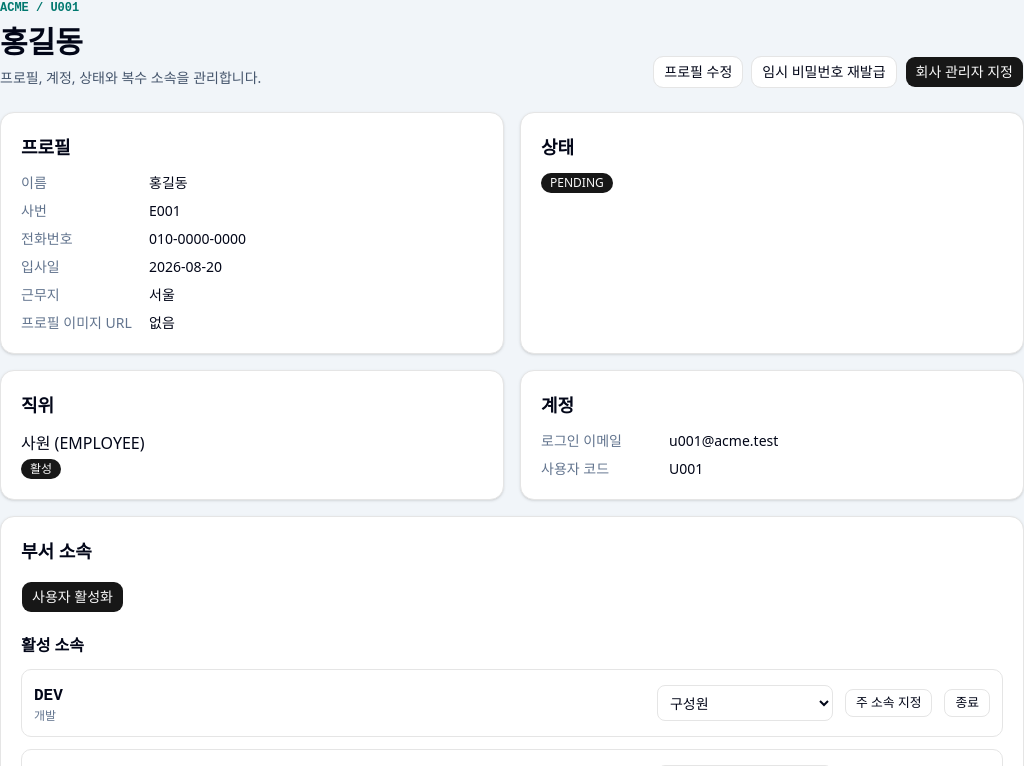
Test case: commits a Strict Mode UserDetail reset continuation and refetch exactly once
This screenshot has width=1024, height=766.
Step 1. Click the button "임시 비밀번호 재발급" → point(824, 72), box left=751, top=56, right=896, bottom=88
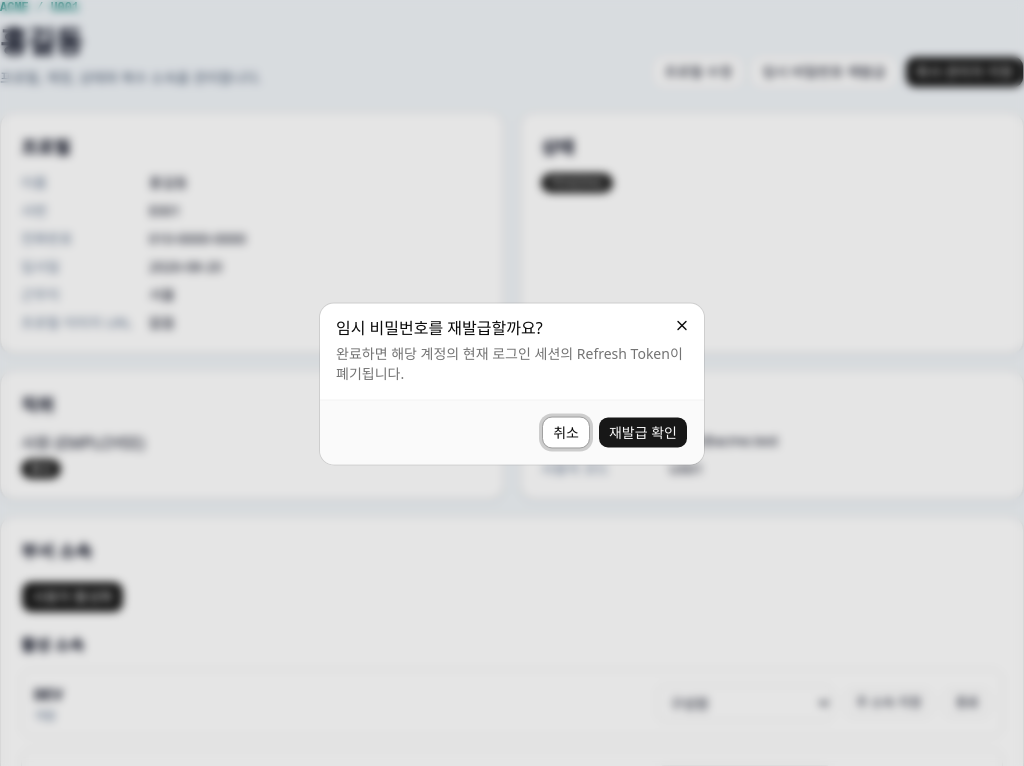
Step 2. Click the button "재발급 확인" → point(643, 432), box left=598, top=416, right=688, bottom=448
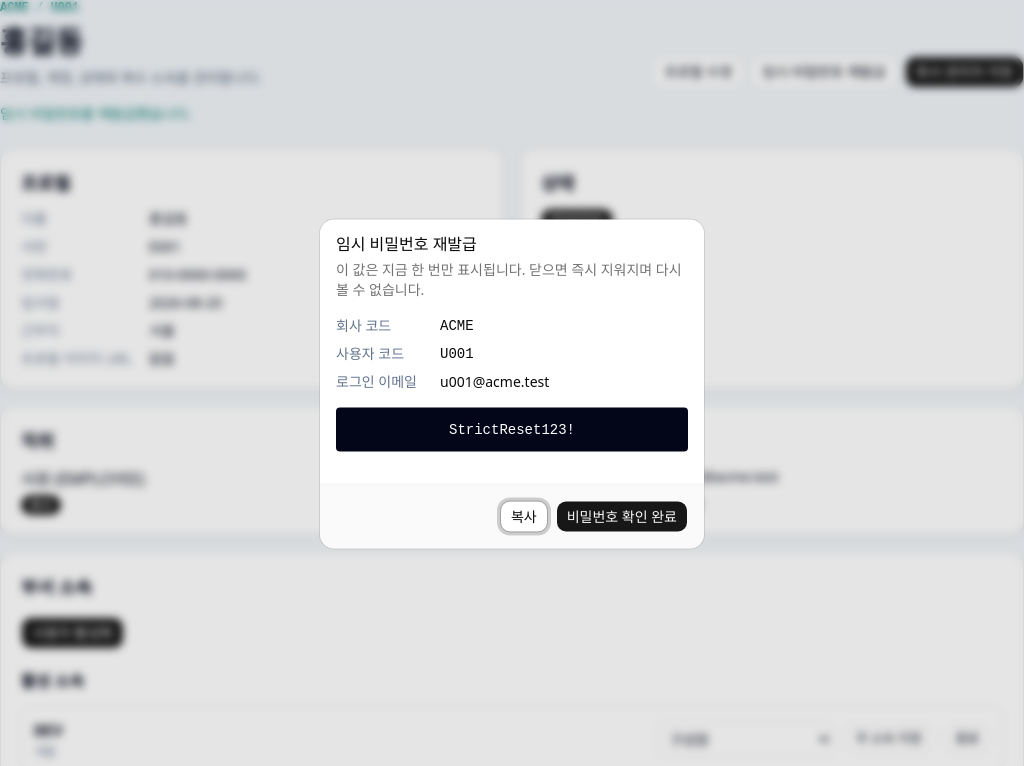
Expected: the text "StrictReset123!" is shown, left=336, top=408, right=688, bottom=452
Expected: the heading "임시 비밀번호를 재발급할까요?" is gone
Expected: the text "임시 비밀번호를 재발급했습니다." is shown, left=0, top=104, right=191, bottom=123
